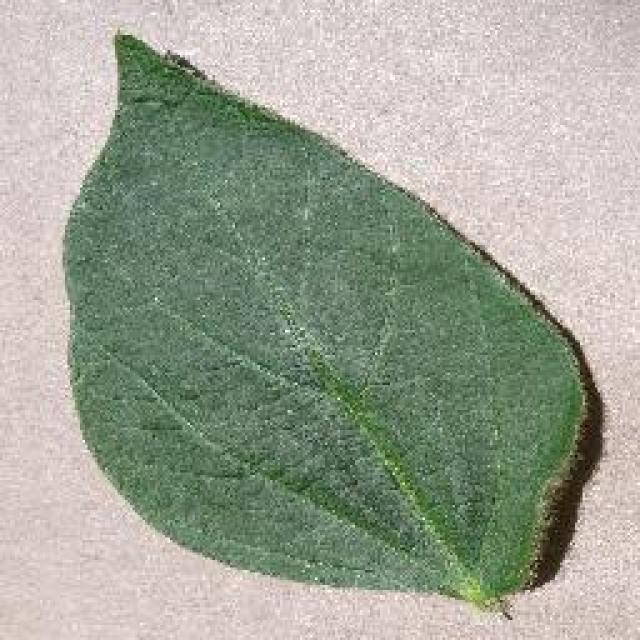Soy_healthy: (84, 79, 547, 556)
